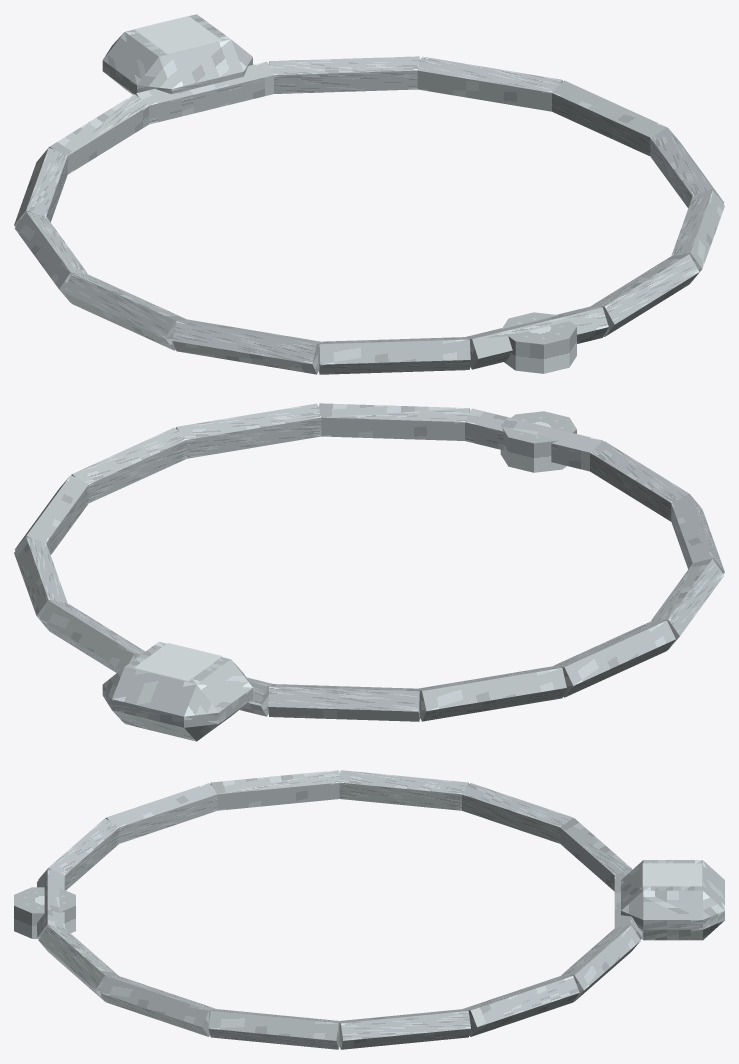
File: silver_locket.glb
The picture shows the model from 3 angles, top to bottom: view 1: azimuth 30°, elevation 25°; view 2: azimuth 150°, elevation 25°; view 3: azimuth 270°, elevation 25°; orthographic projection. The views are drawn at different scales.
Visible parts, largest first — view 1: block_hinged locket, block_necklace chain4, block_necklace chain5, block_necklace chain11, block_necklace chain12, block_necklace chain6, block_necklace chain13, block_necklace chain10, block_necklace chain2, block_necklace chain9, block_clasp, block_necklace chain3 (+5 smaller); view 2: block_hinged locket, block_necklace chain9, block_necklace chain8, block_necklace chain2, block_necklace chain1, block_necklace chain7, block_necklace chain0, block_necklace chain11, block_necklace chain4, block_necklace chain3, block_clasp, block_necklace chain6 (+5 smaller); view 3: block_hinged locket, block_necklace chain13, block_necklace chain0, block_necklace chain7, block_necklace chain6, block_necklace chain12, block_necklace chain1, block_necklace chain5, block_necklace chain8, block_necklace chain11, block_necklace chain2, block_necklace chain4 (+5 smaller).
Boxes of the visible parts, x1=… form: block_hinged locket: x1=102, y1=14, x2=252, y2=94; block_necklace chain4: x1=319, y1=337, x2=470, y2=374; block_necklace chain5: x1=172, y1=319, x2=320, y2=374; block_necklace chain11: x1=269, y1=56, x2=419, y2=93; block_necklace chain12: x1=417, y1=56, x2=562, y2=111; block_necklace chain6: x1=63, y1=273, x2=185, y2=350; block_necklace chain13: x1=552, y1=80, x2=667, y2=155; block_necklace chain10: x1=135, y1=61, x2=273, y2=124; block_necklace chain2: x1=590, y1=254, x2=699, y2=336; block_necklace chain9: x1=49, y1=94, x2=148, y2=174; block_clasp: x1=502, y1=312, x2=576, y2=373; block_necklace chain3: x1=465, y1=306, x2=608, y2=369; block_hinged locket: x1=102, y1=642, x2=252, y2=741; block_necklace chain9: x1=268, y1=684, x2=419, y2=721; block_necklace chain8: x1=418, y1=666, x2=566, y2=721; block_necklace chain2: x1=319, y1=403, x2=469, y2=440; block_necklace chain1: x1=176, y1=403, x2=321, y2=458; block_necklace chain7: x1=553, y1=620, x2=675, y2=697; block_necklace chain0: x1=71, y1=427, x2=186, y2=502; block_necklace chain11: x1=39, y1=601, x2=145, y2=672; block_necklace chain4: x1=590, y1=441, x2=689, y2=521; block_necklace chain3: x1=465, y1=408, x2=603, y2=471; block_clasp: x1=500, y1=411, x2=576, y2=472; block_necklace chain6: x1=650, y1=558, x2=724, y2=649; block_hinged locket: x1=621, y1=860, x2=724, y2=940; block_necklace chain13: x1=339, y1=1009, x2=470, y2=1049; block_necklace chain0: x1=208, y1=1009, x2=339, y2=1049; block_necklace chain7: x1=339, y1=770, x2=468, y2=810; block_necklace chain6: x1=210, y1=770, x2=339, y2=810; block_necklace chain12: x1=462, y1=975, x2=579, y2=1036; block_necklace chain1: x1=99, y1=975, x2=216, y2=1036; block_necklace chain5: x1=105, y1=783, x2=217, y2=843; block_necklace chain8: x1=462, y1=783, x2=573, y2=843; block_necklace chain11: x1=561, y1=925, x2=640, y2=1001; block_necklace chain2: x1=38, y1=925, x2=118, y2=1001; block_necklace chain4: x1=38, y1=818, x2=119, y2=890.
Size of the model in its own units: 0.0879 by 0.00799 by 0.1009.
1 material, 1 textured.
